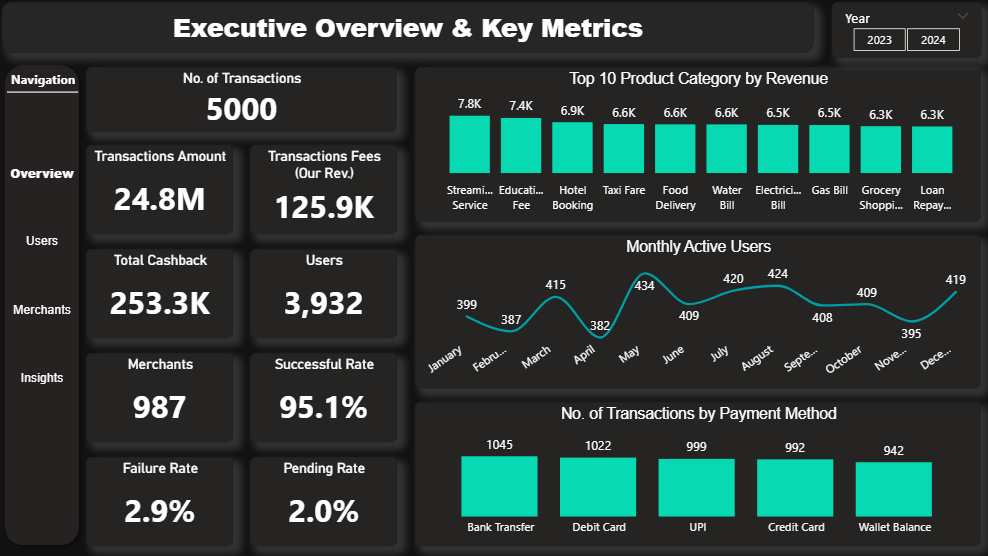

Layout of this report page (visuals, bound fields, positions):
{"tool":"powerbi","page":{"name":"Executive Overview","canvas":[1280,720],"ordinal":0},"visuals":[{"type":"textbox","box":[5.7,4.3,1047.4,65.2],"z":0},{"type":"shape","box":[0,76.1,113.4,637.8],"z":0,"group":"g1"},{"type":"group","id":"g1","title":"Group 1","box":[0,76.1,113.4,637.8],"z":1000},{"type":"textbox","box":[11.3,87.4,93.5,31.2],"z":1000,"group":"g1"},{"type":"shape","box":[11.3,111.5,92.1,18.4],"z":2000,"group":"g1"},{"type":"card","title":"Transactions Amount","fields":{"Values":["All Measures.Total Transactions Amount"]},"box":[113.4,188.5,189.9,114.8],"z":2000},{"type":"actionButton","box":[5.7,205.1,103.5,39.7],"z":3000,"group":"g1"},{"type":"card","title":"Total Cashback","fields":{"Values":["All Measures.Total Cashback Paid"]},"box":[113.4,322.7,189.9,114.8],"z":3000},{"type":"actionButton","box":[5.7,293.4,103.5,39.7],"z":4000,"group":"g1"},{"type":"card","title":"Users","fields":{"Values":["All Measures.No. of Users"]},"box":[324.6,322.7,189.9,114.8],"z":4000},{"type":"actionButton","box":[5.7,381.8,103.5,39.7],"z":5000,"group":"g1"},{"type":"card","title":"Failure Rate","fields":{"Values":["All Measures.Failure Rate"]},"box":[113.4,591,189.9,114.8],"z":5000},{"type":"card","title":"Transactions Fees (Our Rev.)","fields":{"Values":["All Measures.Total Transactions Fees"]},"box":[324.6,188.5,189.9,114.8],"z":6000},{"type":"actionButton","box":[5.7,470.1,103.5,39.7],"z":6000,"group":"g1"},{"type":"card","title":"Successful Rate","fields":{"Values":["All Measures.Successful Rate"]},"box":[324.6,456.9,189.9,114.8],"z":7000},{"type":"card","title":"Merchants","fields":{"Values":["All Measures.No. of Merchants"]},"box":[113.4,456.9,189.9,114.8],"z":8000},{"type":"card","title":"Pending Rate","fields":{"Values":["All Measures.Pending Rate"]},"box":[324.6,591,189.9,114.8],"z":9000},{"type":"clusteredColumnChart","title":"Top 10 Product Category by Revenue","fields":{"Y":["All Measures.Total Transactions Fees"],"Category":["Digital_Wallet_Data.Product Category"]},"box":[538.6,87.9,729.9,199.8],"z":10000},{"type":"lineChart","title":"Monthly Active Users","fields":{"Category":["Digital_Wallet_Data.Transaction Date.Variation.Date Hierarchy.Month"],"Y":["All Measures.No. of Users"]},"box":[538.6,304.6,729.9,198.4],"z":11000},{"type":"clusteredColumnChart","title":"No. of Transactions by Payment Method","fields":{"Category":["Digital_Wallet_Data.Payment Method"],"Y":["All Measures.No. of Transactions"]},"box":[538.1,520,730.3,185.8],"z":12000},{"type":"card","title":"No. of Transactions","fields":{"Values":["All Measures.No. of Transactions"]},"box":[113.4,87.9,401.1,83.6],"z":13000},{"type":"slicer","fields":{"Values":["Digital_Wallet_Data.Transaction Date.Variation.Date Hierarchy.Year"]},"box":[1075.7,4.3,192.8,72.3],"z":14000}]}

Visuals, with their boxes in screenshot pixels (x1, y1, x2, y2), scaled from the page's 1280x720 canvas onto the 988x556 screenshot:
textbox: (x1=4, y1=3, x2=813, y2=54)
shape: (x1=0, y1=59, x2=88, y2=551)
"Group 1" group: (x1=0, y1=59, x2=88, y2=551)
textbox: (x1=9, y1=67, x2=81, y2=92)
shape: (x1=9, y1=86, x2=80, y2=100)
"Transactions Amount" card: (x1=88, y1=146, x2=234, y2=234)
actionButton: (x1=4, y1=158, x2=84, y2=189)
"Total Cashback" card: (x1=88, y1=249, x2=234, y2=338)
actionButton: (x1=4, y1=227, x2=84, y2=257)
"Users" card: (x1=251, y1=249, x2=397, y2=338)
actionButton: (x1=4, y1=295, x2=84, y2=325)
"Failure Rate" card: (x1=88, y1=456, x2=234, y2=545)
"Transactions Fees (Our Rev.)" card: (x1=251, y1=146, x2=397, y2=234)
actionButton: (x1=4, y1=363, x2=84, y2=394)
"Successful Rate" card: (x1=251, y1=353, x2=397, y2=441)
"Merchants" card: (x1=88, y1=353, x2=234, y2=441)
"Pending Rate" card: (x1=251, y1=456, x2=397, y2=545)
"Top 10 Product Category by Revenue" clusteredColumnChart: (x1=416, y1=68, x2=979, y2=222)
"Monthly Active Users" lineChart: (x1=416, y1=235, x2=979, y2=388)
"No. of Transactions by Payment Method" clusteredColumnChart: (x1=415, y1=402, x2=979, y2=545)
"No. of Transactions" card: (x1=88, y1=68, x2=397, y2=132)
slicer - Digital_Wallet_Data.Transaction Date.Variation.Date Hierarchy.Year: (x1=830, y1=3, x2=979, y2=59)
